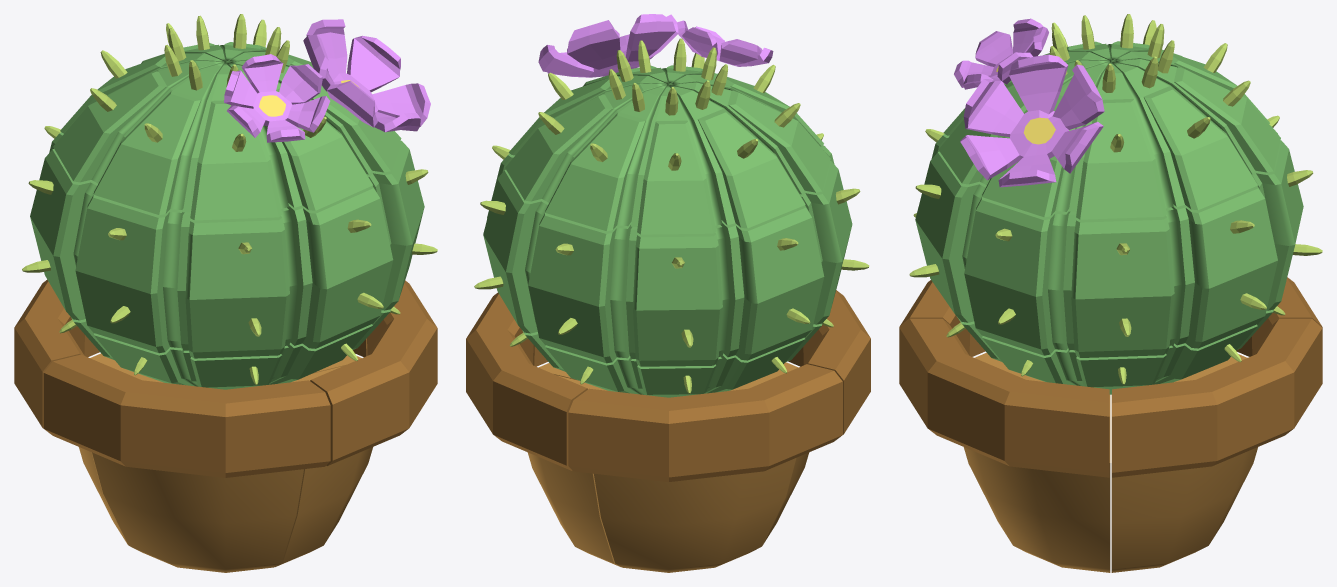
Rendered from Level_P_11.fbx.
The picture shows the model from 3 angles, left to right: view 1: azimuth 30°, elevation 25°; view 2: azimuth 150°, elevation 25°; view 3: azimuth 270°, elevation 25°; orthographic projection. The views are drawn at different scales.
Visible parts, largest first — view 1: Cube_11.009, Cube_11.011, Cube_11.027, Cube_11.001, Cube_11.035, Cube_11.007, Cube_11.030, Cube_11.028, Cube_11.004, Cube_11.033, Cube_11.003, Cube_11.032 (+13 smaller); view 2: Cube_11.006, Cube_11.012, Cube_11.014, Cube_11.017, Cube_11.032, Cube_11.005, Cube_11.015, Cube_11.018, Cube_11.033, Cube_11.020, Cube_11.021, Cube_11.030 (+14 smaller); view 3: Cube_11.005, Cube_11.007, Cube_11.023, Cube_11.004, Cube_11.025, Cube_11.020, Cube_11.010, Cube_11.013, Cube_11.002, Cube_11.021, Cube_11.035, Cube_11.018 (+13 smaller).
Boxes of the visible parts, x1=… form: Cube_11.009: x1=43, y1=354, x2=330, y2=477; Cube_11.011: x1=92, y1=452, x2=303, y2=572; Cube_11.027: x1=177, y1=207, x2=297, y2=358; Cube_11.001: x1=75, y1=195, x2=184, y2=353; Cube_11.035: x1=287, y1=185, x2=393, y2=348; Cube_11.007: x1=310, y1=280, x2=437, y2=465; Cube_11.030: x1=93, y1=60, x2=224, y2=214; Cube_11.028: x1=183, y1=63, x2=288, y2=220; Cube_11.004: x1=303, y1=19, x2=430, y2=132; Cube_11.033: x1=53, y1=44, x2=223, y2=183; Cube_11.003: x1=224, y1=54, x2=330, y2=142; Cube_11.032: x1=22, y1=149, x2=97, y2=320; Cube_11.006: x1=568, y1=364, x2=842, y2=481; Cube_11.012: x1=594, y1=458, x2=796, y2=572; Cube_11.014: x1=626, y1=225, x2=729, y2=366; Cube_11.017: x1=528, y1=213, x2=631, y2=363; Cube_11.032: x1=720, y1=205, x2=824, y2=360; Cube_11.005: x1=466, y1=292, x2=587, y2=470; Cube_11.015: x1=631, y1=85, x2=722, y2=234; Cube_11.018: x1=545, y1=83, x2=666, y2=231; Cube_11.033: x1=669, y1=80, x2=805, y2=228; Cube_11.020: x1=474, y1=170, x2=548, y2=333; Cube_11.021: x1=505, y1=69, x2=666, y2=202; Cube_11.030: x1=670, y1=64, x2=830, y2=194; Cube_11.005: x1=1112, y1=318, x2=1322, y2=477; Cube_11.007: x1=899, y1=318, x2=1109, y2=477; Cube_11.023: x1=1063, y1=207, x2=1181, y2=357; Cube_11.004: x1=960, y1=54, x2=1104, y2=187; Cube_11.025: x1=964, y1=197, x2=1070, y2=355; Cube_11.020: x1=1171, y1=186, x2=1277, y2=348; Cube_11.010: x1=963, y1=395, x2=1110, y2=572; Cube_11.013: x1=1111, y1=395, x2=1257, y2=572; Cube_11.002: x1=1068, y1=62, x2=1173, y2=219; Cube_11.021: x1=1112, y1=56, x2=1257, y2=210; Cube_11.035: x1=909, y1=151, x2=986, y2=322; Cube_11.018: x1=1112, y1=40, x2=1280, y2=174.
Bounding box in the file's own units: 7.88 × 10.4 × 7.88.
